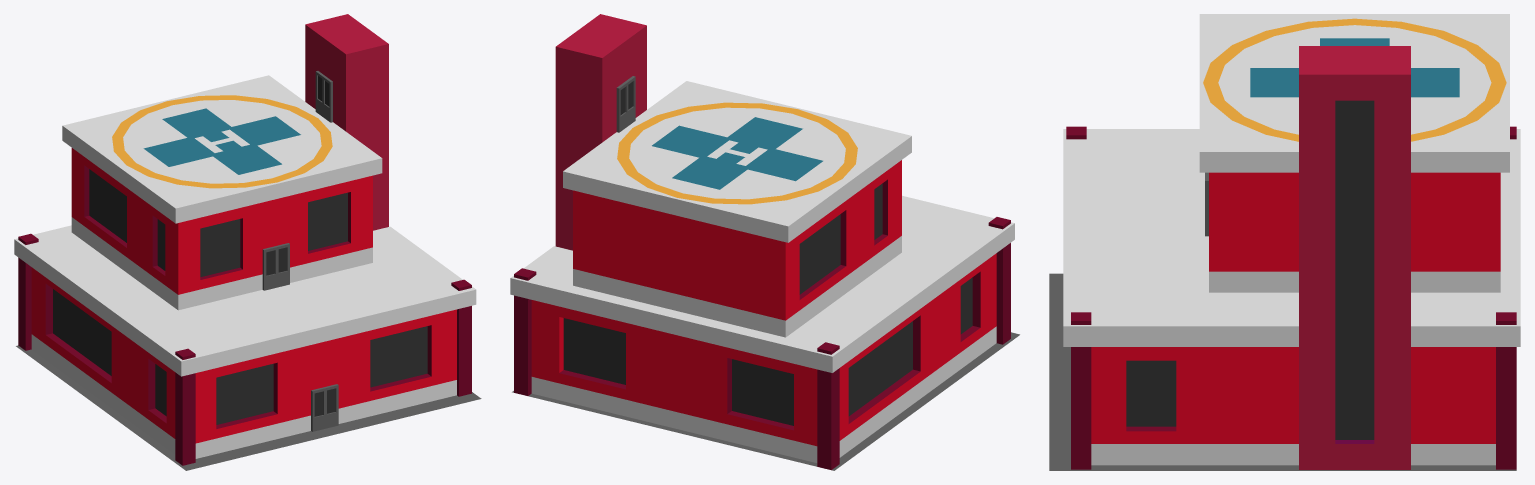
Rendered from hospital_01.fbx.
The picture shows the model from 3 angles, left to right: view 1: azimuth 30°, elevation 25°; view 2: azimuth 150°, elevation 25°; view 3: azimuth 270°, elevation 25°; orthographic projection. The views are drawn at different scales.
Visible parts, largest first — view 1: hospital_01; view 2: hospital_01; view 3: hospital_01.
Part boxes in pixels (left/top/right/bottom): hospital_01: left=14, top=14, right=481, bottom=470; hospital_01: left=510, top=14, right=1019, bottom=470; hospital_01: left=1049, top=14, right=1520, bottom=470.
Bounding box in the file's own units: 20 × 18.67 × 20.17.
